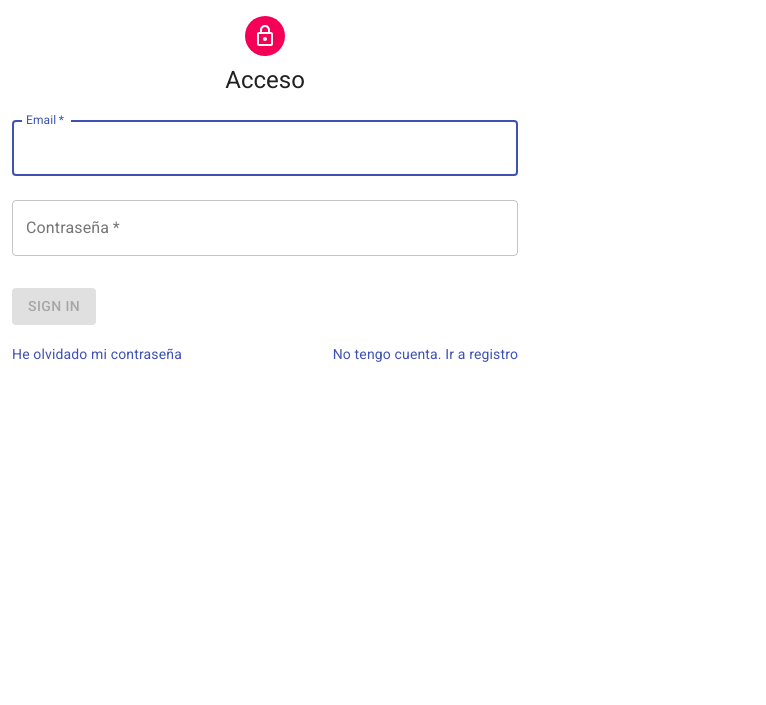
Test: Login › should show incorrect login message when the login process fails
The image size is (766, 705).
Step 1. Type "mockemail@mock.com" into the field with test id "login-emailField" → (265, 148), box [12,120,518,176]
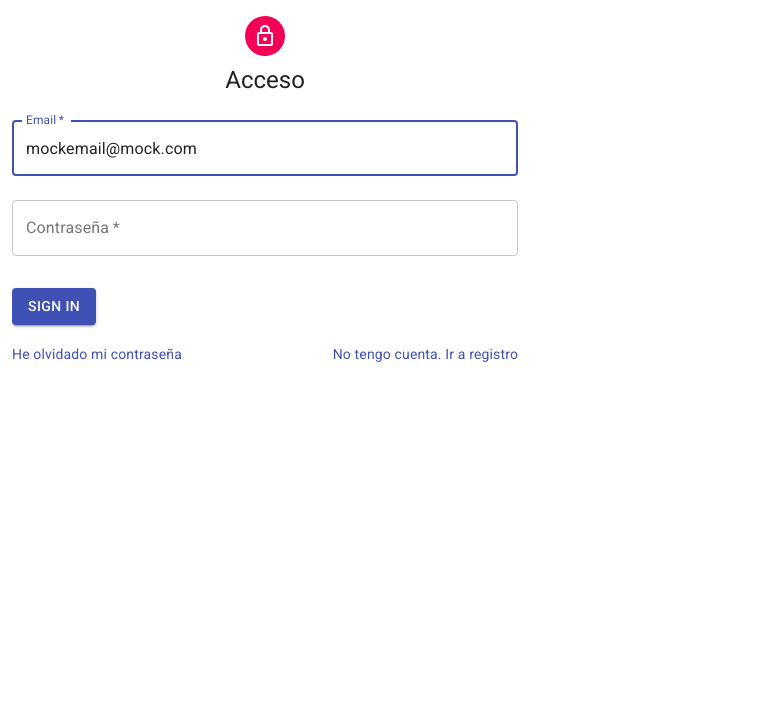
Step 2. Type "mockPassword" into the password field with test id "login-passwordField" → (265, 228), box [12,200,518,256]
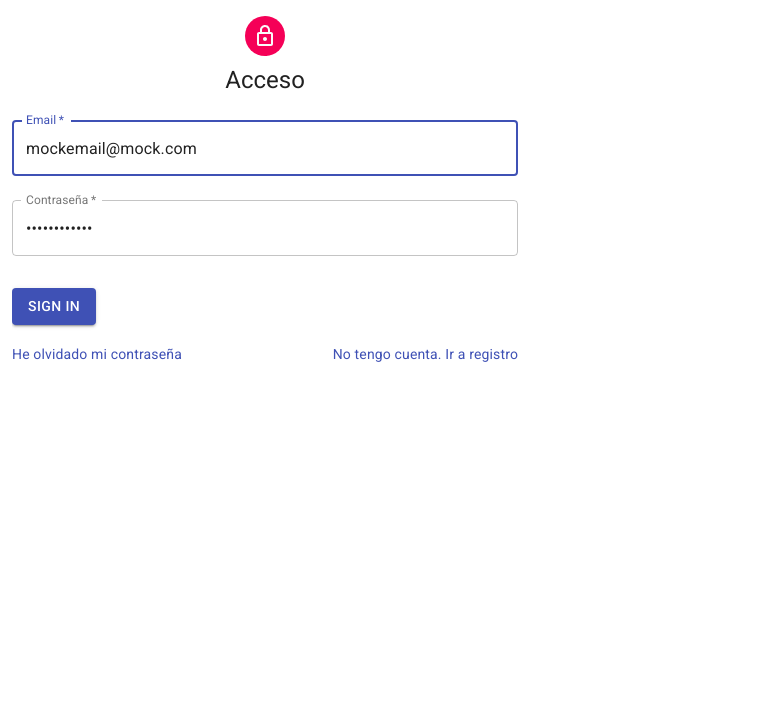
Step 3. Click the button with test id "login-submitButton" → (54, 306), box [12,288,96,324]
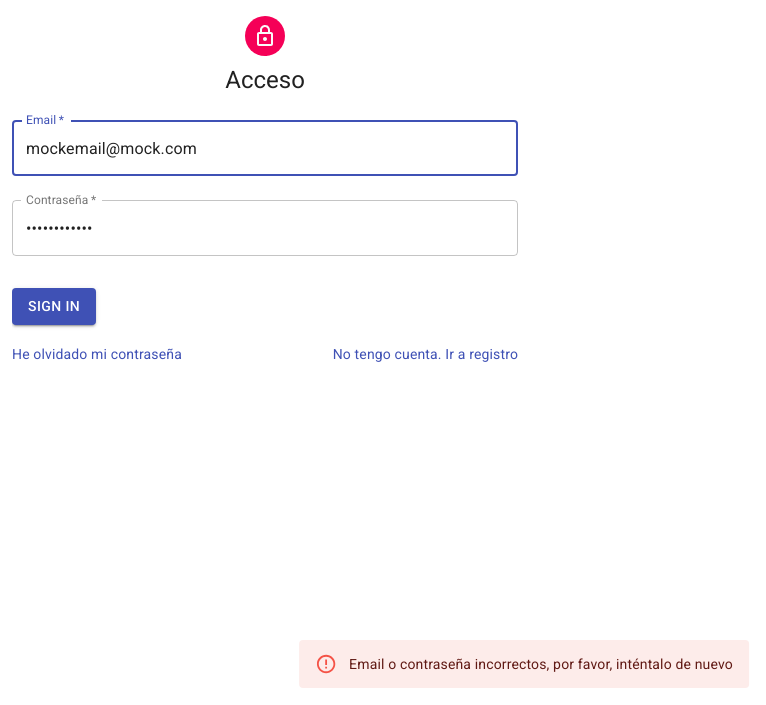
expect the element with test id "login-loginIncorrectMessage" is shown: met, box [299,640,749,688]
